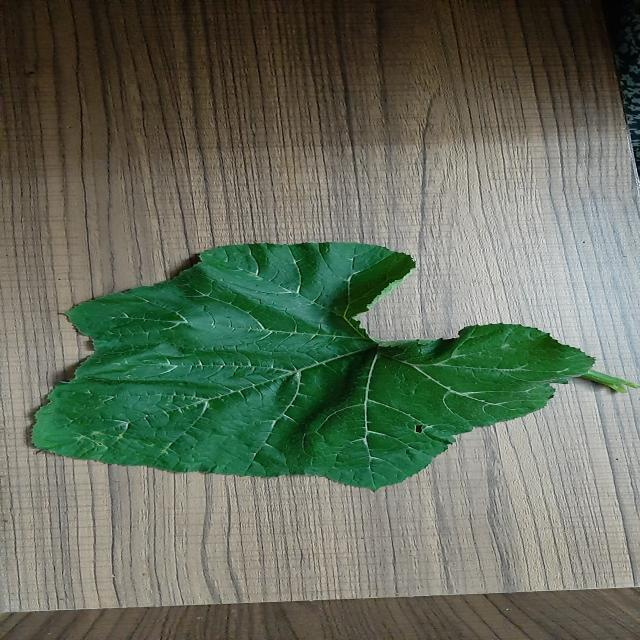pumpkin: (33, 242, 631, 489)
